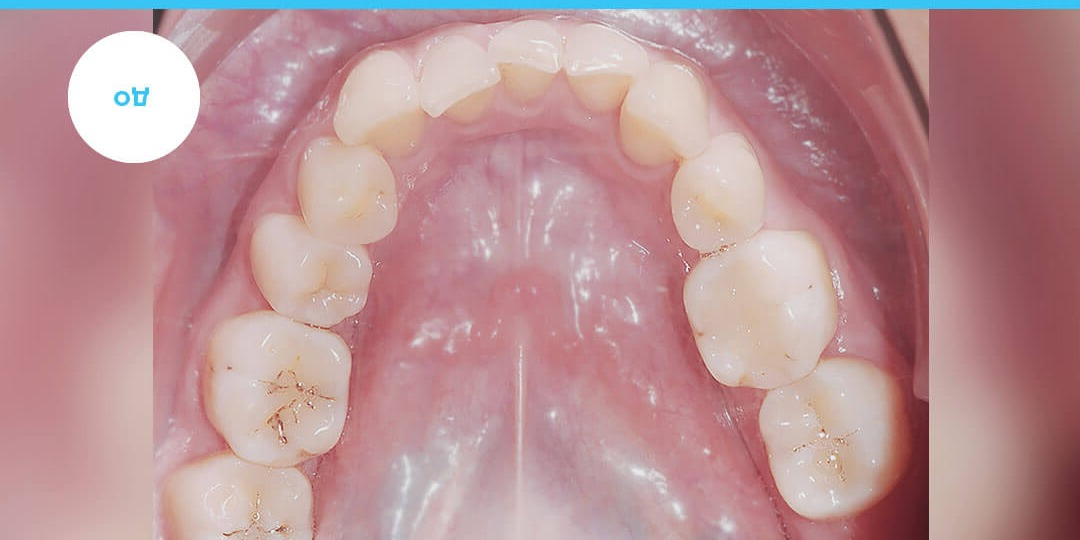UL1BC_healthy: (683, 229, 833, 387)
UL2BC_decay: (761, 357, 894, 519)
ULCI_healthy: (566, 23, 644, 108)
ULC_healthy: (670, 135, 763, 251)
ULLI_healthy: (621, 63, 706, 164)
UR1BC_healthy: (251, 215, 371, 327), (496, 20, 564, 99)
UR1M_decay: (169, 463, 313, 540)
UR2BC_decay: (208, 313, 348, 464)
URCI_healthy: (424, 37, 502, 121)
URC_healthy: (300, 140, 398, 241)
URLI_healthy: (334, 51, 423, 147)
